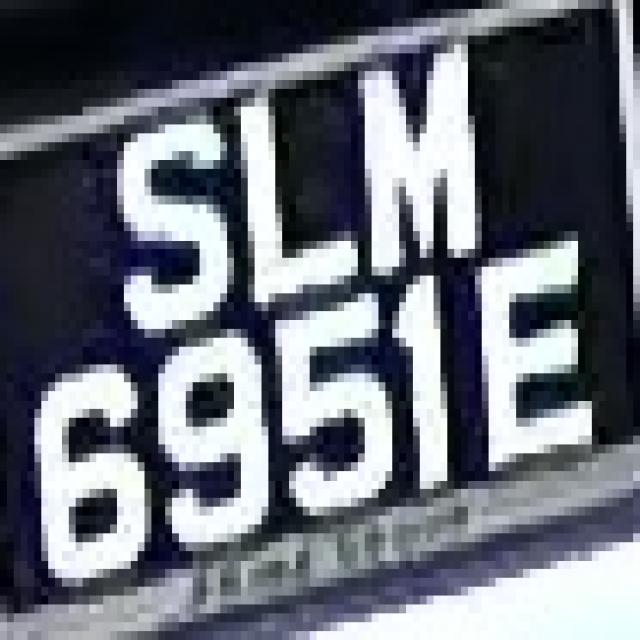1: (378, 258, 475, 533)
5: (262, 284, 392, 524)
6: (28, 356, 144, 622)
9: (152, 302, 268, 587)
E: (454, 240, 599, 462)
L: (241, 71, 378, 302)
M: (337, 53, 496, 267)
S: (89, 97, 248, 356)
